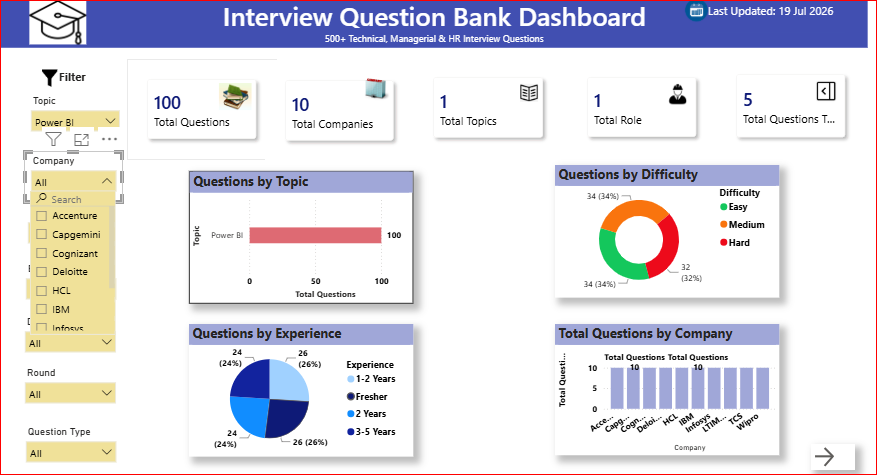

This screenshot's page, from the dashboard's own definition file:
{"tool":"powerbi","page":{"name":"Dashboard","canvas":[1280,720],"ordinal":0},"visuals":[{"type":"textbox","box":[13.5,11.8,1248,75.7],"z":0},{"type":"cardVisual","fields":{"Data":["Interview_Questions.Total Questions"]},"box":[195.1,104.3,215.3,144.7],"z":1000},{"type":"cardVisual","fields":{"Data":["Interview_Questions.Total Topics"]},"box":[606.4,100.8,216.4,145.5],"z":2000},{"type":"cardVisual","fields":{"Data":["Interview_Questions.Total Companies"]},"box":[393.7,104.5,214.6,145.5],"z":3000},{"type":"cardVisual","fields":{"Data":["Interview_Questions.Total Role"]},"box":[827.5,100.9,215.3,144.7],"z":4000},{"type":"cardVisual","fields":{"Data":["Interview_Questions.Total Questions Type"]},"box":[1042.9,96,215.3,149.8],"z":5000},{"type":"slicer","fields":{"Values":["Interview_Questions.Topic"]},"box":[45.4,149.7,148,75.7],"z":6000},{"type":"slicer","fields":{"Values":["Interview_Questions.Company"]},"box":[45.4,235.5,143,75.7],"z":7000},{"type":"slicer","fields":{"Values":["Interview_Questions.Role"]},"box":[42,311.2,143,80.7],"z":8000},{"type":"slicer","fields":{"Values":["Interview_Questions.Experience"]},"box":[38.7,391.9,149.7,75.7],"z":9000},{"type":"slicer","fields":{"Values":["Interview_Questions.Difficulty"]},"box":[37,467.6,151.4,70.6],"z":10000},{"type":"slicer","fields":{"Values":["Interview_Questions.Round"]},"box":[37,541.6,151.4,84.1],"z":11000},{"type":"slicer","fields":{"Values":["Interview_Questions.Question Type"]},"box":[38.7,625.7,149.7,67.3],"z":12000},{"type":"image","box":[28.6,18.5,131.2,63.9],"z":13000},{"type":"textbox","box":[72.3,114.4,87.5,35.3],"z":14000},{"type":"image","box":[72.3,114.4,21.9,35.3],"z":15000},{"type":"image","box":[760.7,132.4,26.2,40.7],"z":16000},{"type":"image","box":[960.4,137.9,53.8,32],"z":17000},{"type":"image","box":[528,128.7,52.2,37.3],"z":18000},{"type":"image","box":[316.2,137.9,67.3,38.7],"z":19000},{"type":"image","box":[1172.4,134.6,57.2,32],"z":20000},{"type":"textbox","box":[1014.2,18.5,215.3,47.1],"z":21000},{"type":"barChart","title":"Questions by Topic","fields":{"Y":["Interview_Questions.Total Questions"],"Category":["Interview_Questions.Topic"]},"box":[283.6,264.7,322.9,190.5],"z":22000},{"type":"donutChart","title":"Questions by Difficulty","fields":{"Category":["Interview_Questions.Difficulty"],"Y":["Interview_Questions.Total Questions"]},"box":[810.2,256,322.9,190.5],"z":23000},{"type":"pieChart","title":"Questions by Experience","fields":{"Category":["Interview_Questions.Experience"],"Y":["Interview_Questions.Total Questions"]},"box":[283.6,485.8,322.9,190.5],"z":24000},{"type":"image","box":[971.3,12.2,85.4,45.3],"z":25000},{"type":"actionButton","box":[1179.2,658.7,63.4,37.3],"z":26000},{"type":"columnChart","fields":{"Y":["Interview_Questions.Total Questions"],"Category":["Interview_Questions.Company"]},"box":[810.2,485.8,322.9,189.1],"z":27000}]}

Visuals, with their boxes on the page's 1280x720 design canvas (x1, y1, x2, y2). These are canvas units, not pixel positions in the 877x475 screenshot, which may show the page scaled, cropped or inside an application window:
textbox: (14,12,1262,88)
cardVisual - Interview_Questions.Total Questions: (195,104,410,249)
cardVisual - Interview_Questions.Total Topics: (606,101,823,246)
cardVisual - Interview_Questions.Total Companies: (394,104,608,250)
cardVisual - Interview_Questions.Total Role: (828,101,1043,246)
cardVisual - Interview_Questions.Total Questions Type: (1043,96,1258,246)
slicer - Interview_Questions.Topic: (45,150,193,225)
slicer - Interview_Questions.Company: (45,236,188,311)
slicer - Interview_Questions.Role: (42,311,185,392)
slicer - Interview_Questions.Experience: (39,392,188,468)
slicer - Interview_Questions.Difficulty: (37,468,188,538)
slicer - Interview_Questions.Round: (37,542,188,626)
slicer - Interview_Questions.Question Type: (39,626,188,693)
image: (29,18,160,82)
textbox: (72,114,160,150)
image: (72,114,94,150)
image: (761,132,787,173)
image: (960,138,1014,170)
image: (528,129,580,166)
image: (316,138,384,177)
image: (1172,135,1230,167)
textbox: (1014,18,1230,66)
"Questions by Topic" barChart: (284,265,606,455)
"Questions by Difficulty" donutChart: (810,256,1133,446)
"Questions by Experience" pieChart: (284,486,606,676)
image: (971,12,1057,58)
actionButton: (1179,659,1243,696)
columnChart - Interview_Questions.Total Questions x Interview_Questions.Company: (810,486,1133,675)
